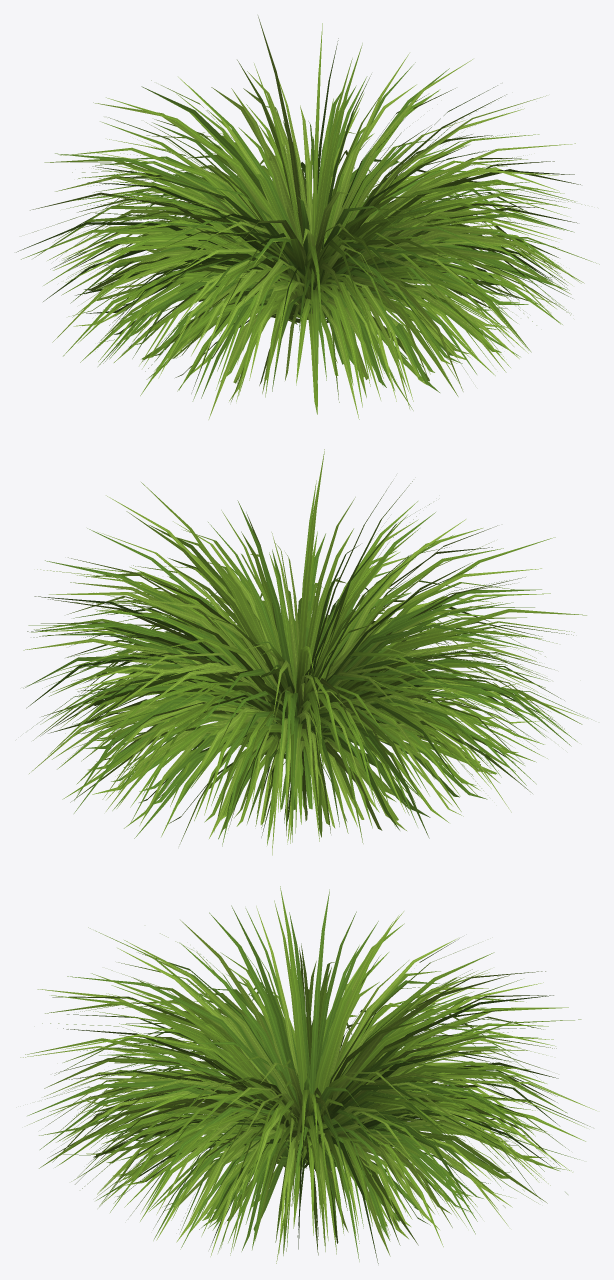
File: shade_grass_v03.fbx
3 views of the same model, one above another, from view 1: azimuth 30°, elevation 25°; view 2: azimuth 150°, elevation 25°; view 3: azimuth 270°, elevation 25° (orthographic).
Parts seen in each view (by area): view 1: shade_grass_v03; view 2: shade_grass_v03; view 3: shade_grass_v03.
Part boxes in pixels (<box>): shade_grass_v03: <box>16,16,599,419</box>; shade_grass_v03: <box>23,449,591,855</box>; shade_grass_v03: <box>20,886,596,1263</box>.
Size of the model in its own units: 93.42 by 95.52 by 36.89.
1 material, 1 textured.
